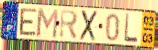0: (105, 12, 122, 42)
E: (19, 7, 38, 37)
L: (123, 13, 139, 45)
M: (36, 6, 60, 39)
R: (58, 8, 79, 41)
X: (79, 9, 99, 42)
